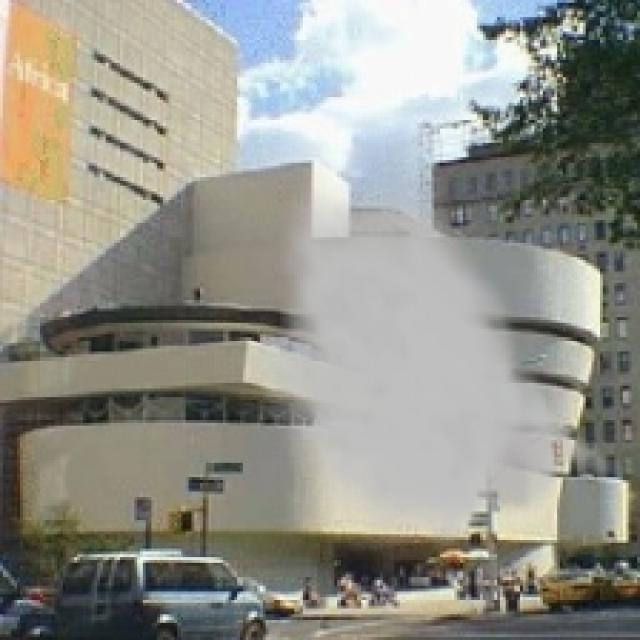Smoke: (262, 163, 634, 560)
